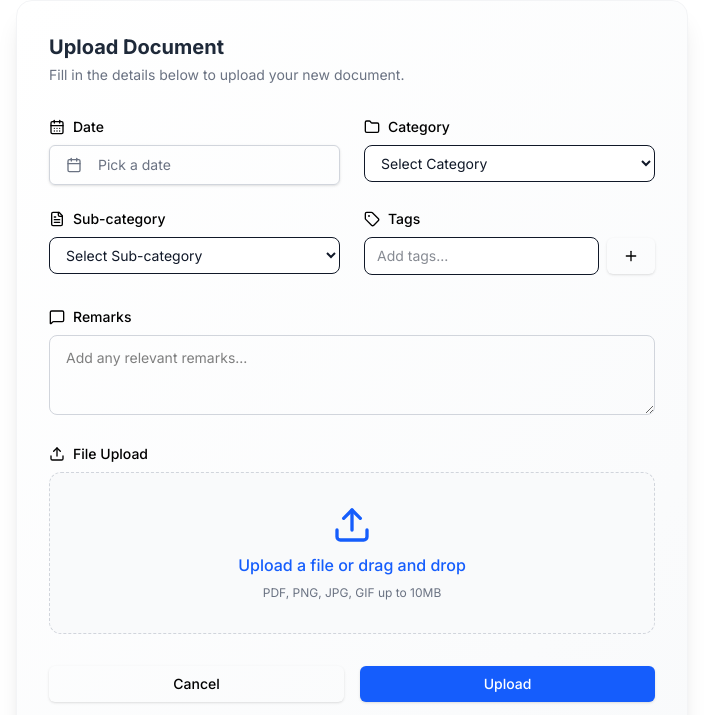
it: UploadDocument › shows tag suggestions when typing
// Type in tag input
Type "Tag" into the field with placeholder "Add tags...". click: (482, 256)
box: top-left (364, 237), bottom-right (599, 275)
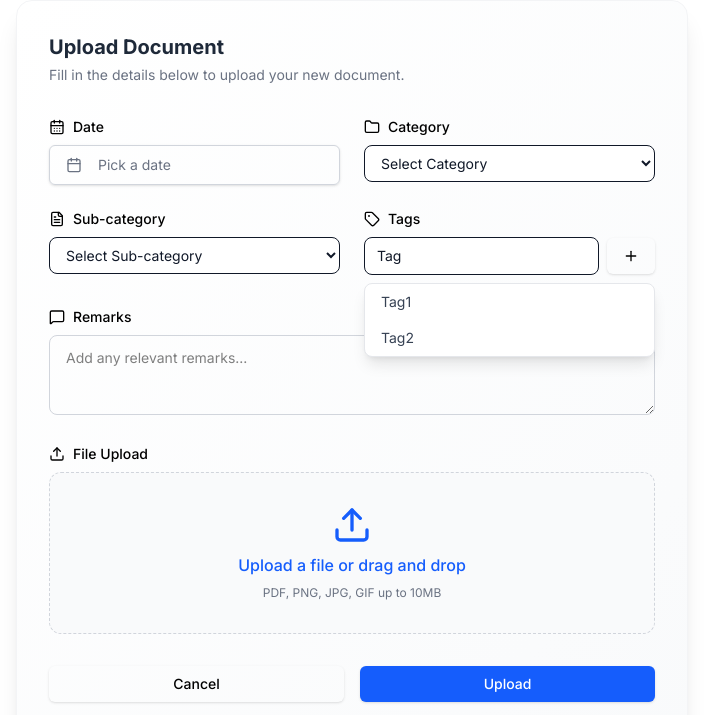
Check: the text "Tag1" is shown
Check: the text "Tag2" is shown, box top-left (381, 329), bottom-right (414, 346)
// Click on suggestion
Click the text "Tag1". click: (396, 302)
box: top-left (381, 293), bottom-right (411, 310)
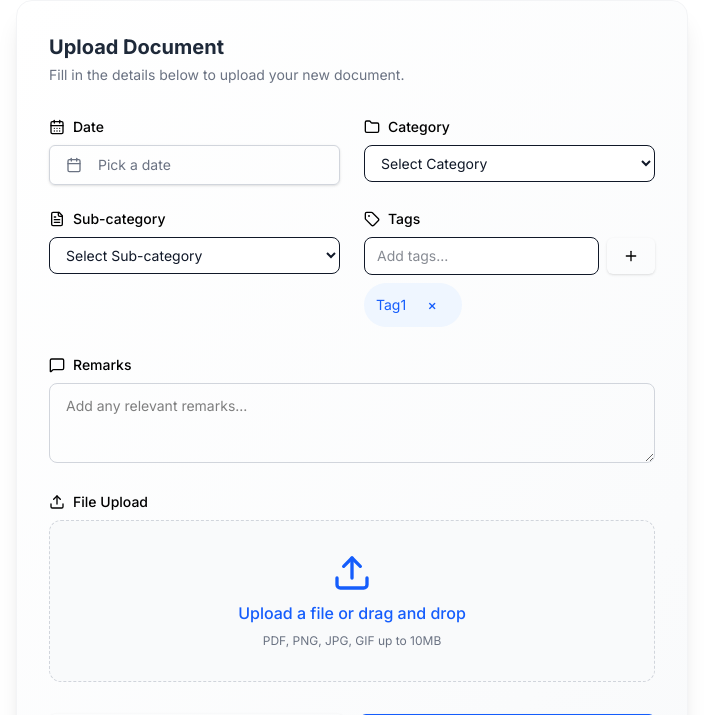
Check: the text "Tag1" is shown, box top-left (376, 296), bottom-right (406, 313)
